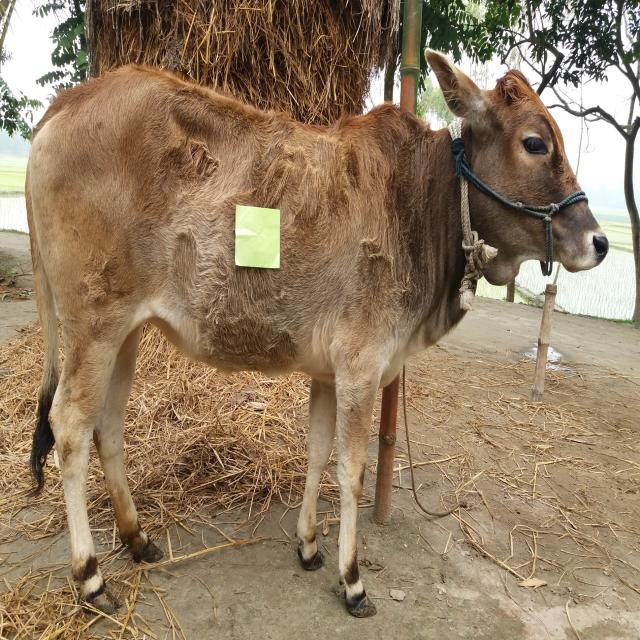badan_sapi: (54, 87, 386, 381)
sapi: (28, 38, 611, 621)
